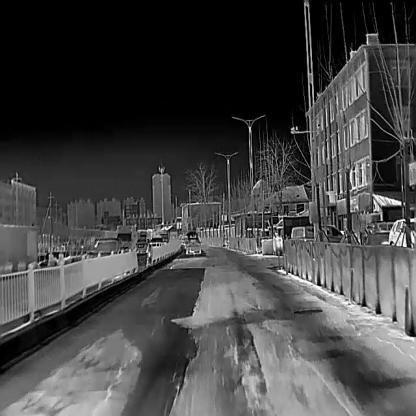car: (81, 237, 125, 260), (291, 225, 348, 242), (362, 220, 396, 244), (390, 217, 415, 245), (117, 225, 136, 252), (185, 237, 201, 257), (135, 238, 148, 253)
